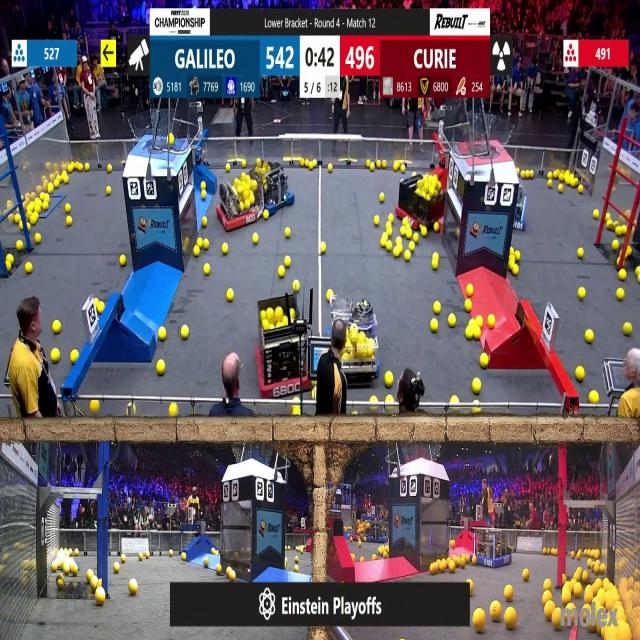ball_airborne: (169, 136, 174, 146)
ball_ground: (472, 612, 484, 634), (504, 611, 515, 631), (552, 612, 562, 630), (491, 601, 501, 619), (96, 589, 106, 605), (503, 586, 512, 602), (543, 602, 552, 618), (481, 353, 490, 368), (472, 379, 481, 394), (130, 582, 139, 596), (575, 366, 584, 380), (50, 349, 59, 363), (572, 586, 581, 600), (385, 373, 393, 388), (586, 328, 594, 342), (158, 360, 166, 374), (54, 320, 62, 334), (92, 399, 100, 413), (563, 590, 571, 604), (624, 322, 633, 334), (590, 391, 599, 403), (170, 405, 178, 418), (70, 350, 78, 363), (446, 562, 454, 575), (226, 288, 233, 302), (181, 325, 188, 339), (464, 301, 472, 313), (449, 314, 457, 326), (618, 288, 626, 300), (160, 327, 167, 340), (523, 568, 530, 581), (430, 319, 437, 332), (26, 264, 34, 275), (70, 564, 78, 575), (466, 284, 473, 296), (433, 302, 440, 314), (620, 270, 627, 282), (488, 315, 495, 327), (513, 265, 520, 277), (543, 580, 550, 592), (226, 568, 233, 580), (430, 563, 437, 575), (392, 247, 400, 257), (542, 592, 550, 602), (611, 240, 618, 251), (474, 316, 481, 327), (98, 303, 105, 314), (92, 579, 99, 590), (119, 254, 125, 266), (205, 265, 211, 277), (466, 327, 472, 339), (252, 234, 258, 246), (292, 280, 298, 292), (574, 568, 580, 580), (203, 240, 210, 250), (278, 268, 285, 278), (473, 328, 480, 338), (284, 256, 291, 266), (284, 230, 291, 240), (292, 408, 299, 418), (383, 225, 390, 235), (414, 234, 421, 244), (507, 263, 514, 273), (578, 287, 584, 298), (35, 234, 41, 245), (221, 243, 227, 254), (432, 261, 438, 272), (583, 570, 589, 581), (395, 237, 402, 246), (5, 264, 12, 273), (421, 229, 428, 238), (259, 310, 266, 319), (576, 248, 582, 258), (380, 191, 386, 201), (594, 209, 600, 219), (16, 241, 22, 251), (403, 251, 409, 261), (320, 242, 325, 254), (410, 242, 416, 252), (326, 289, 332, 299), (116, 564, 122, 574), (32, 214, 38, 224), (516, 250, 522, 260), (42, 201, 48, 211), (432, 253, 438, 263), (399, 226, 405, 236), (98, 576, 104, 586), (393, 163, 399, 173), (470, 579, 475, 591), (570, 177, 576, 187), (386, 394, 393, 402), (452, 395, 459, 403), (507, 248, 514, 256), (363, 161, 370, 169), (387, 240, 392, 251), (106, 185, 112, 194), (193, 247, 199, 256), (66, 204, 72, 213), (381, 239, 387, 248), (375, 216, 381, 225), (181, 553, 187, 562), (617, 226, 623, 235), (88, 569, 94, 578), (627, 246, 633, 255), (47, 184, 53, 193), (67, 216, 72, 226), (203, 216, 208, 226), (216, 564, 221, 574), (408, 232, 413, 242), (6, 255, 13, 262), (139, 554, 145, 562), (546, 172, 552, 180), (195, 238, 201, 246), (470, 558, 476, 566), (382, 162, 388, 170), (559, 174, 565, 182), (58, 578, 64, 586), (307, 161, 313, 169), (606, 214, 612, 222), (434, 222, 439, 231), (205, 557, 210, 566), (265, 211, 270, 220), (369, 164, 374, 173), (554, 171, 559, 180), (65, 565, 70, 574), (388, 214, 394, 221), (64, 176, 70, 183), (471, 410, 478, 416), (520, 171, 526, 178), (370, 395, 376, 402), (577, 184, 582, 192), (120, 556, 125, 564), (202, 190, 207, 198), (84, 162, 89, 170), (559, 184, 564, 192), (548, 182, 553, 190), (529, 170, 534, 178), (14, 215, 19, 223), (68, 164, 73, 172), (294, 556, 299, 564), (588, 560, 593, 568), (56, 180, 61, 188), (636, 268, 640, 277), (618, 257, 622, 266), (377, 161, 381, 170), (351, 555, 356, 562), (401, 218, 406, 225), (299, 161, 304, 168), (79, 165, 84, 172), (284, 561, 289, 568), (294, 565, 298, 573), (328, 165, 332, 173), (18, 222, 22, 230), (225, 165, 229, 173), (360, 556, 364, 564), (562, 573, 566, 581), (242, 161, 246, 169), (28, 222, 32, 230), (400, 166, 404, 174), (371, 556, 376, 562), (383, 554, 388, 560), (466, 578, 471, 584), (108, 166, 112, 173), (202, 182, 206, 189), (146, 553, 150, 560), (212, 547, 216, 553), (571, 553, 575, 559), (170, 551, 173, 558)
goal: (460, 118, 517, 158), (129, 115, 188, 152)
robot_blue: (336, 305, 381, 389), (475, 529, 512, 569), (351, 513, 391, 543)
robot_red: (256, 292, 312, 399), (396, 170, 446, 227), (218, 176, 262, 231), (446, 0, 487, 5)
